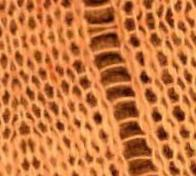slub: (82, 0, 159, 175)
